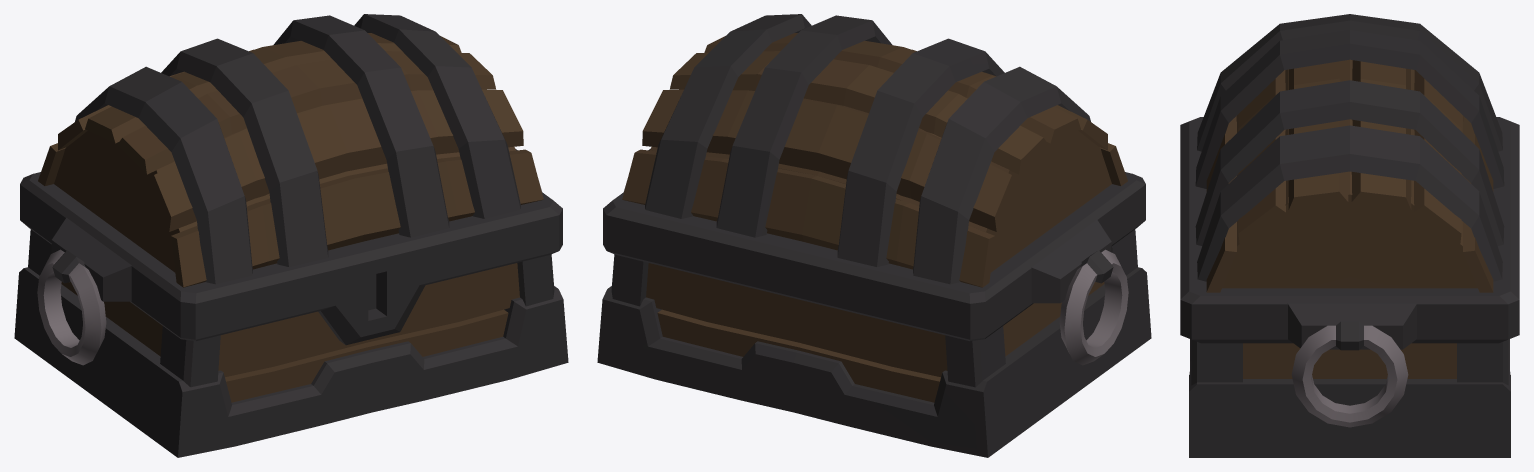
Rendered from Chest.glb.
The picture shows the model from 3 angles, left to right: view 1: azimuth 30°, elevation 25°; view 2: azimuth 150°, elevation 25°; view 3: azimuth 270°, elevation 25°; orthographic projection.
Visible parts, largest first — view 1: Chest; view 2: Chest; view 3: Chest.
Boxes of the visible parts, x1,y1,x2,y2 form: Chest: (14,14,568,457); Chest: (597,14,1151,457); Chest: (1180,14,1519,457).
Size of the model in its own units: 1.2 by 0.7582 by 0.7635.
